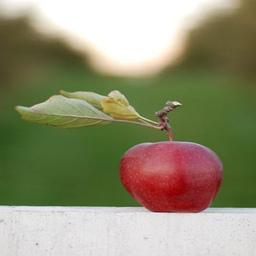apple: (117, 139, 222, 215)
